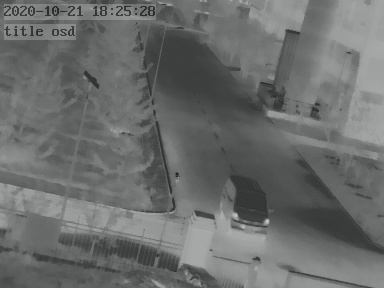vehicle: (216, 174, 273, 237)
